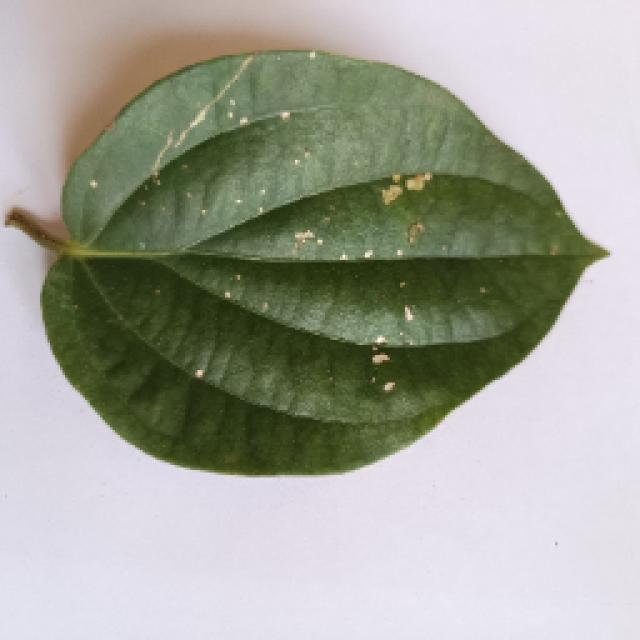pollu-disease: (2, 58, 608, 480)
